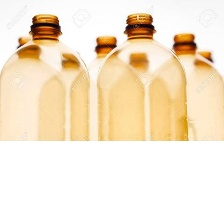bottle: (0, 8, 95, 146), (94, 10, 186, 145), (64, 30, 153, 144), (149, 24, 224, 148), (0, 32, 68, 143), (102, 47, 175, 148), (36, 49, 93, 145), (176, 49, 224, 143)
